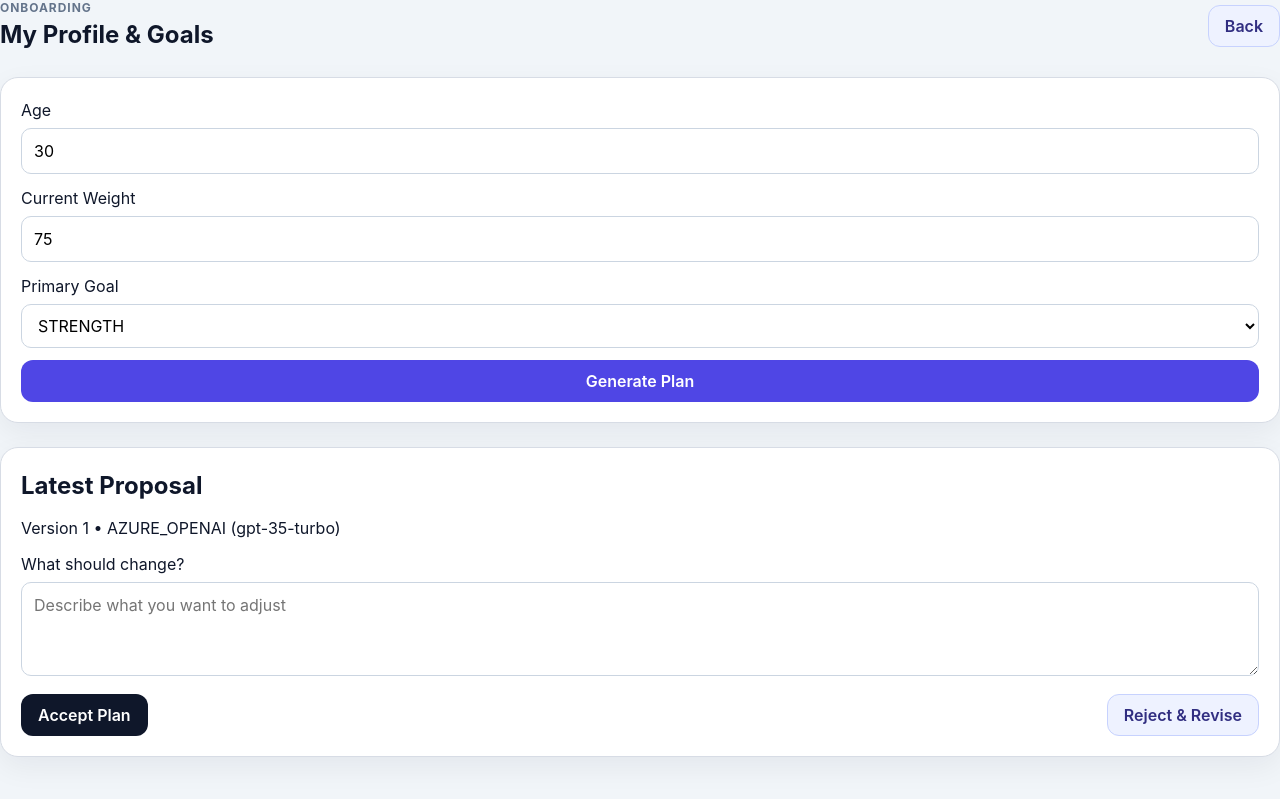
ProfileGoalOnboardingPage – accept error handling › shows error message and does NOT navigate when mutateAsync rejects
The image size is (1280, 799).
Click the button "Accept Plan" at (84,715), box [21, 694, 148, 736]
(page scrolled)
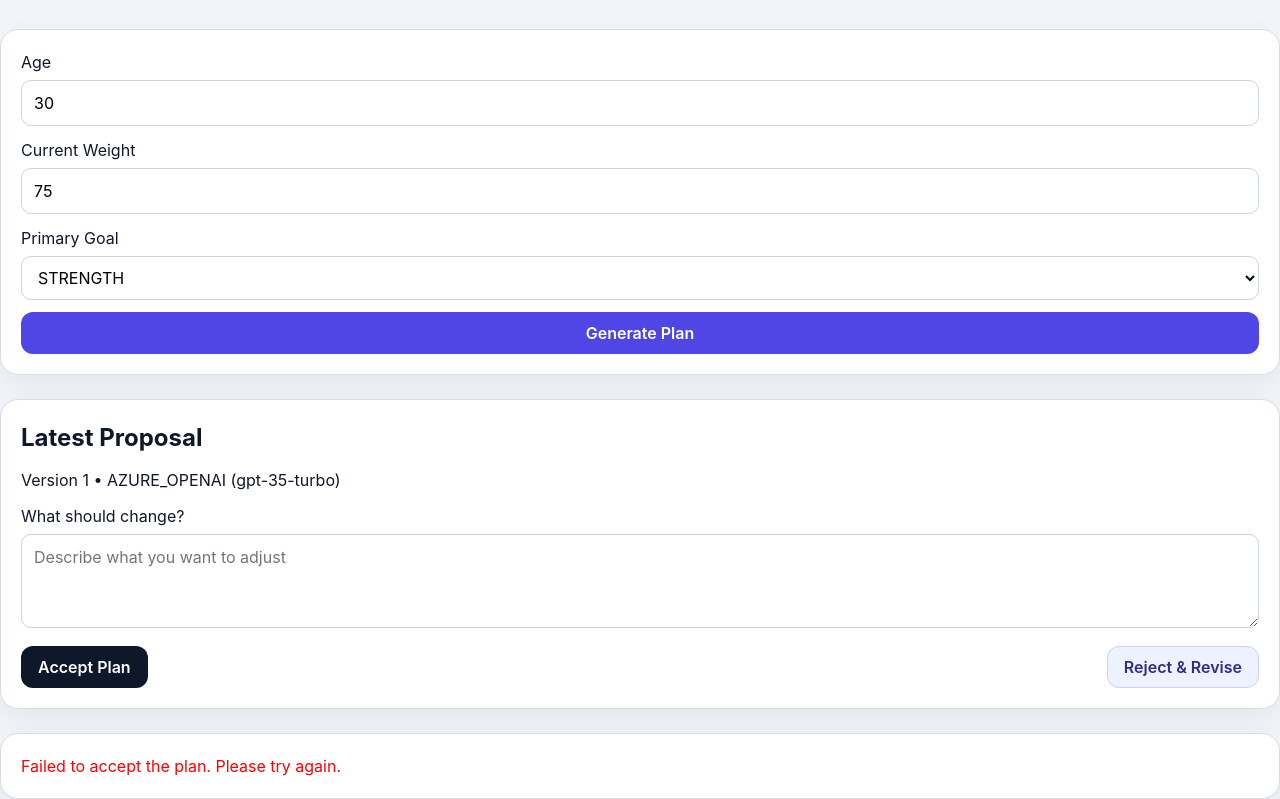
Expected: the text "Failed to accept the plan. Please try again." is shown, [0, 733, 1279, 798]
